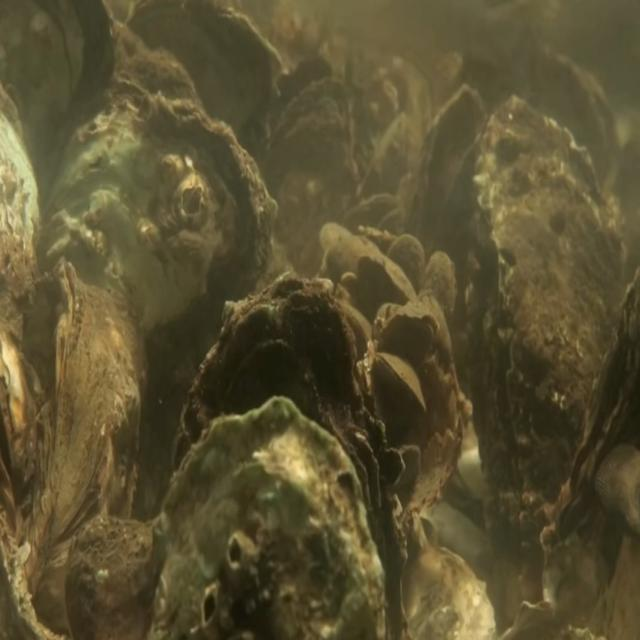Oyster-Closed: (43, 87, 277, 500), (173, 268, 404, 640), (463, 90, 623, 534), (145, 393, 384, 640), (537, 262, 640, 590), (372, 348, 426, 411), (381, 308, 439, 356)
Oyster-Indeterminate: (27, 253, 144, 640), (408, 80, 488, 311), (357, 248, 417, 302), (386, 231, 425, 302), (422, 247, 456, 322)
Oyster-Open: (256, 52, 353, 264)
